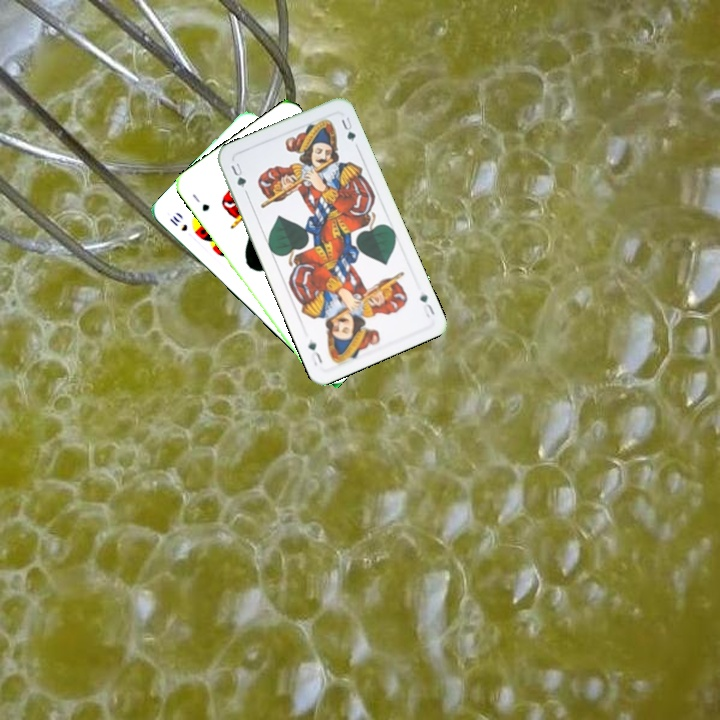GU: (227, 158, 249, 190), (416, 289, 437, 321), (188, 190, 212, 214)
S10: (165, 211, 190, 234)
